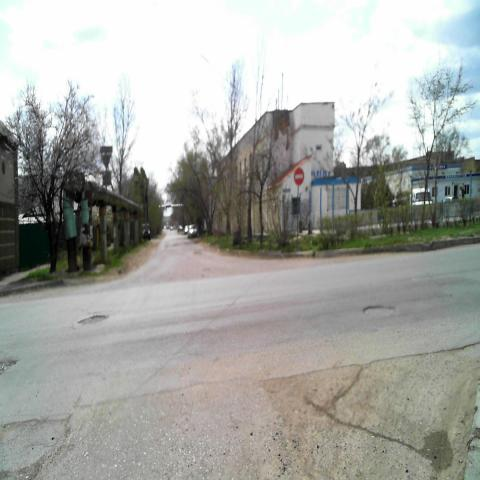3_1: (293, 167, 306, 189)
